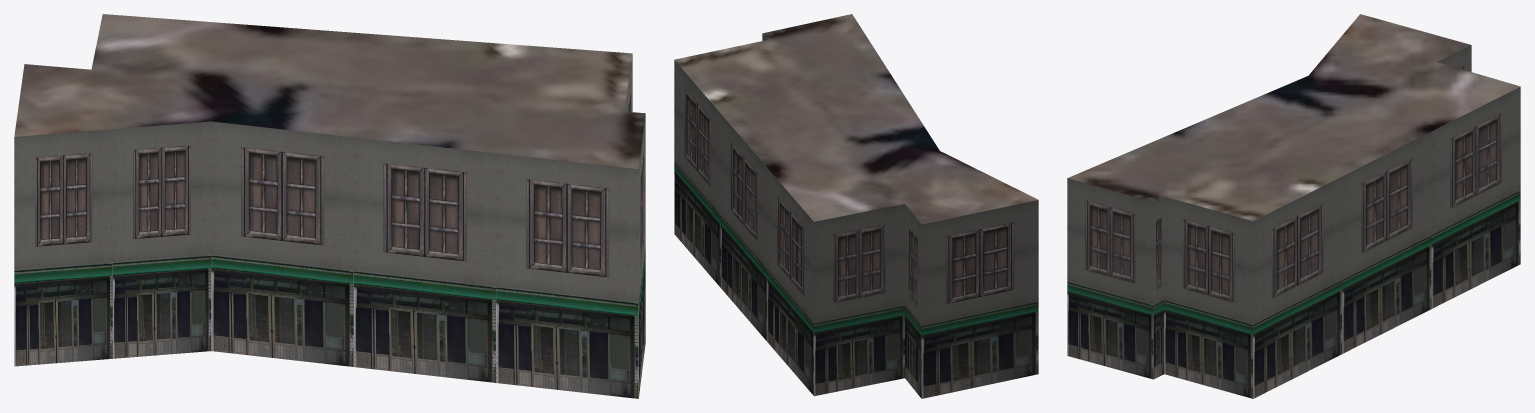
3 views of the same model, side by side, from view 1: azimuth 30°, elevation 25°; view 2: azimuth 150°, elevation 25°; view 3: azimuth 270°, elevation 25° (orthographic). The views are drawn at different scales.
Visible parts, largest first — view 1: SketchUp (×7); view 2: SketchUp (×9); view 3: SketchUp (×10).
Boxes of the visible parts, x1,y1,x2,y2 form: SketchUp (×7): (14,14,645,398); SketchUp (×9): (674,14,1038,398); SketchUp (×10): (1067,14,1520,398).
Bounding box in the file's own units: 19.82 × 18.32 × 7.92.
3 materials, 3 textured.
